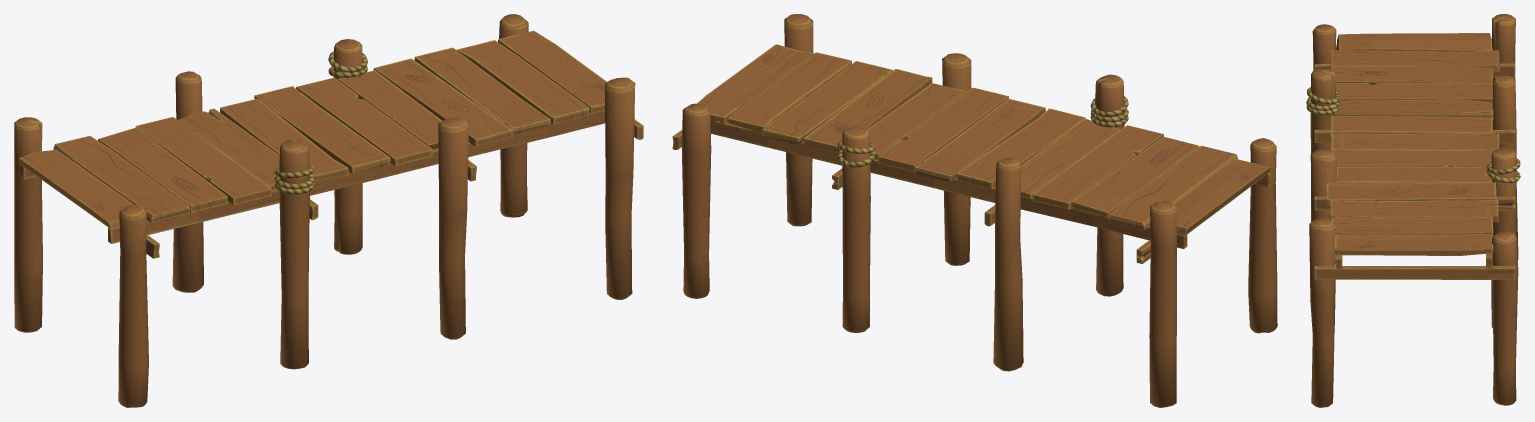
The model's file is Pier_Mesh.fbx.
3 views of the same model, side by side, from view 1: azimuth 30°, elevation 25°; view 2: azimuth 150°, elevation 25°; view 3: azimuth 270°, elevation 25° (orthographic). The views are drawn at different scales.
Visible parts, largest first — view 1: Post_003, Post_004.001, Post_004.002, Post_002, Post_001, Board_02.001, Board_04.001, Board_04, Board_02, Board_02.002, Board_03.002, Board_04.002 (+12 smaller); view 2: Post_001.001, Post_004, Post_001, Post_002.001, Post_002, Board_02.001, Board_04.001, Board_02.002, Board_04, Board_03.002, Board_03, Board_04.002 (+12 smaller); view 3: Post_004.002, Post_002.001, Board_05.001, Board_04.002, Board_02.002, Board_03.001, Board_02.001, Board_03.002, Board_01, Beam_04.001, Board_02, Board_04 (+13 smaller).
Boxes of the visible parts, x1=… form: Post_003: x1=274, y1=139, x2=314, y2=369; Post_004.001: x1=438, y1=117, x2=468, y2=339; Post_004.002: x1=605, y1=77, x2=635, y2=299; Post_002: x1=118, y1=204, x2=148, y2=407; Post_001: x1=14, y1=117, x2=42, y2=332; Board_02.001: x1=254, y1=86, x2=390, y2=173; Board_04.001: x1=296, y1=77, x2=432, y2=165; Board_04: x1=135, y1=117, x2=271, y2=205; Board_02: x1=53, y1=136, x2=190, y2=222; Board_02.002: x1=414, y1=47, x2=550, y2=134; Board_03.002: x1=457, y1=40, x2=589, y2=124; Board_04.002: x1=373, y1=58, x2=512, y2=146; Post_001.001: x1=837, y1=126, x2=875, y2=332; Post_004: x1=993, y1=158, x2=1023, y2=371; Post_001: x1=1149, y1=201, x2=1176, y2=407; Post_002.001: x1=681, y1=103, x2=711, y2=298; Post_002: x1=1248, y1=138, x2=1277, y2=333; Board_02.001: x1=915, y1=98, x2=1045, y2=182; Board_04.001: x1=878, y1=87, x2=1008, y2=172; Board_02.002: x1=762, y1=61, x2=892, y2=144; Board_04: x1=1033, y1=125, x2=1163, y2=209; Board_03.002: x1=727, y1=52, x2=851, y2=133; Board_03: x1=1071, y1=137, x2=1199, y2=217; Board_04.002: x1=804, y1=69, x2=932, y2=153; Post_004.002: x1=1309, y1=218, x2=1335, y2=407; Post_002.001: x1=1492, y1=231, x2=1518, y2=405; Board_05.001: x1=1335, y1=234, x2=1493, y2=255; Board_04.002: x1=1326, y1=182, x2=1496, y2=205; Board_02.002: x1=1329, y1=200, x2=1498, y2=222; Board_03.001: x1=1331, y1=116, x2=1492, y2=135; Board_02.001: x1=1330, y1=133, x2=1499, y2=150; Board_03.002: x1=1331, y1=216, x2=1493, y2=234; Board_01: x1=1337, y1=33, x2=1491, y2=51; Beam_04.001: x1=1314, y1=266, x2=1515, y2=280; Board_02: x1=1330, y1=50, x2=1499, y2=71; Board_04: x1=1336, y1=83, x2=1493, y2=102.
Bounding box in the file's own units: 43236 × 18239 × 17851.
